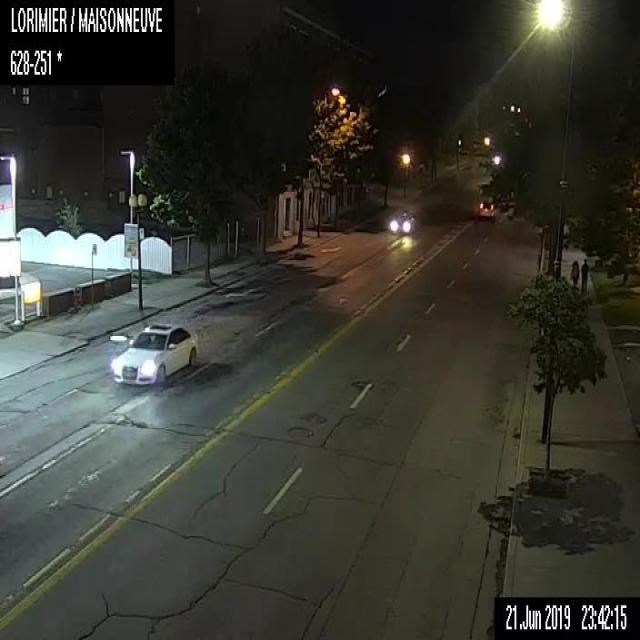pedestrian: (580, 257, 588, 292), (571, 259, 579, 285)
vehicle: (110, 318, 198, 386), (390, 211, 415, 233), (478, 198, 494, 218)
